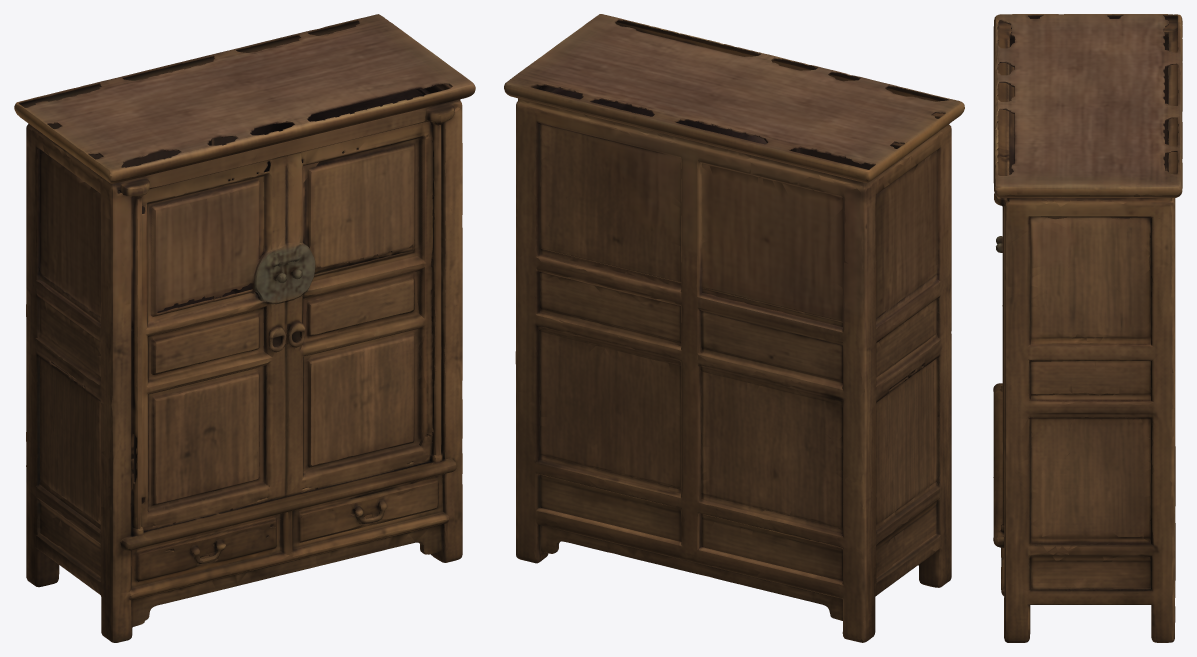
Rendered from cabinet.glb.
3 views of the same model, side by side, from view 1: azimuth 30°, elevation 25°; view 2: azimuth 150°, elevation 25°; view 3: azimuth 270°, elevation 25° (orthographic). The views are drawn at different scales.
Parts seen in each view (by area): view 1: world; view 2: world; view 3: world.
Part boxes in pixels (<box>): world: <box>14,14,475,642</box>; world: <box>504,14,964,642</box>; world: <box>993,14,1182,642</box>.
Bounding box in the file's own units: 1.61 × 2 × 0.7417.
1 material, 1 textured.
